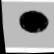correct: (15, 7, 53, 36)
